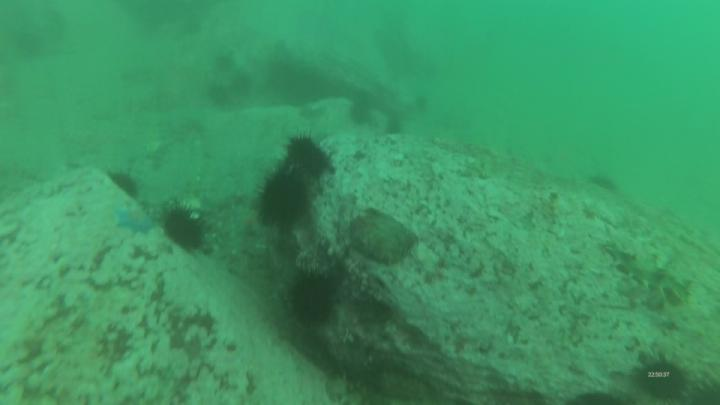echinus: (251, 171, 315, 235), (285, 269, 342, 334), (633, 354, 695, 405), (282, 130, 335, 185), (160, 202, 212, 253), (563, 386, 633, 405), (104, 169, 144, 202), (13, 31, 45, 62), (689, 375, 720, 405), (207, 82, 235, 110), (585, 172, 621, 193), (229, 71, 255, 98), (212, 53, 236, 78), (349, 100, 372, 126), (413, 93, 432, 115), (384, 115, 402, 138)
holothurian: (603, 242, 696, 303), (464, 144, 504, 182)
starfish: (113, 207, 159, 238)
